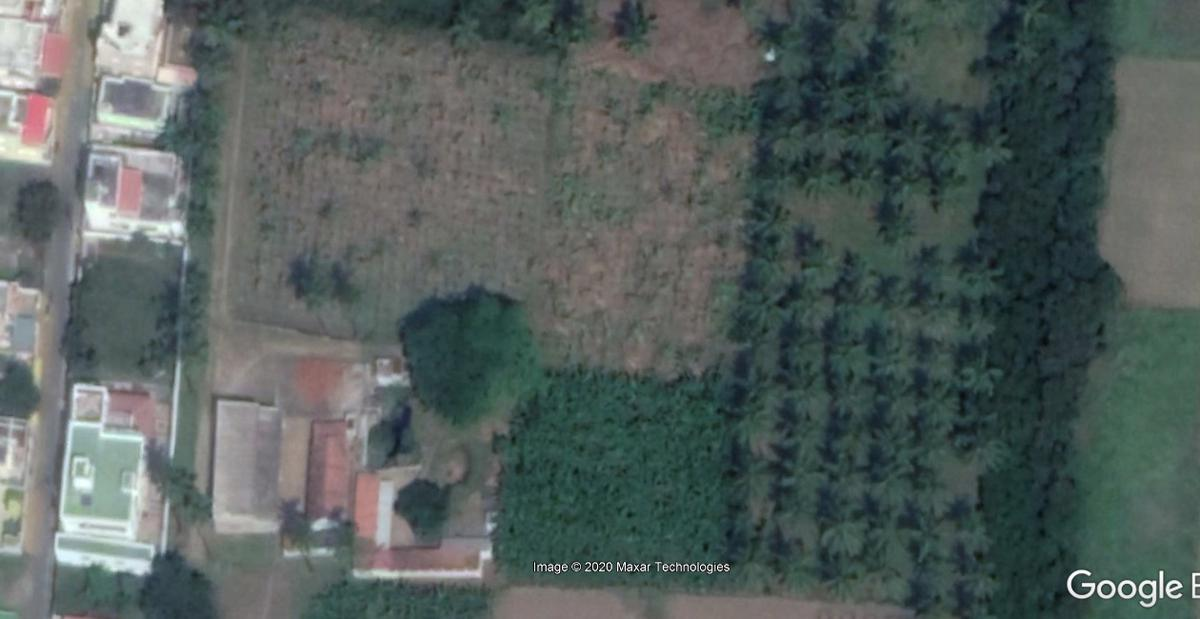coconut: (746, 69, 798, 120), (848, 67, 895, 123), (958, 351, 1005, 405), (809, 491, 857, 540), (899, 499, 945, 549), (801, 66, 841, 115), (960, 237, 1003, 281), (875, 193, 912, 244), (952, 578, 997, 619), (904, 273, 948, 314), (911, 365, 951, 410), (739, 144, 789, 180), (720, 503, 754, 555), (795, 226, 834, 271), (610, 4, 655, 43), (721, 302, 768, 339), (745, 11, 794, 46), (730, 257, 772, 297), (814, 548, 853, 591), (718, 438, 758, 479), (946, 487, 981, 533), (768, 537, 805, 580), (822, 307, 857, 352), (771, 275, 815, 310), (958, 432, 1003, 466), (863, 363, 902, 402), (957, 307, 997, 345), (974, 119, 1008, 162), (907, 406, 946, 443), (912, 235, 948, 275), (927, 159, 963, 199), (780, 319, 820, 355), (871, 264, 905, 306), (931, 92, 963, 136), (854, 536, 893, 572), (819, 434, 850, 479), (831, 145, 865, 186), (826, 399, 863, 436), (863, 319, 901, 355), (908, 577, 941, 618), (819, 357, 857, 392), (740, 229, 789, 256), (853, 488, 889, 524), (720, 388, 763, 418), (916, 323, 949, 362), (741, 193, 786, 221), (860, 441, 897, 475), (885, 148, 920, 182), (789, 148, 824, 182), (907, 447, 941, 481), (767, 437, 802, 469), (771, 392, 801, 424)
